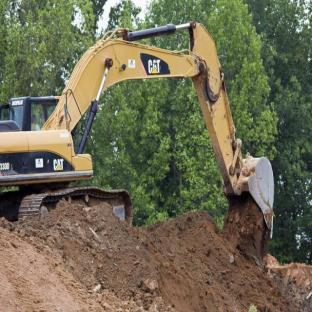ExcavationMachinery: (3, 16, 312, 248)
